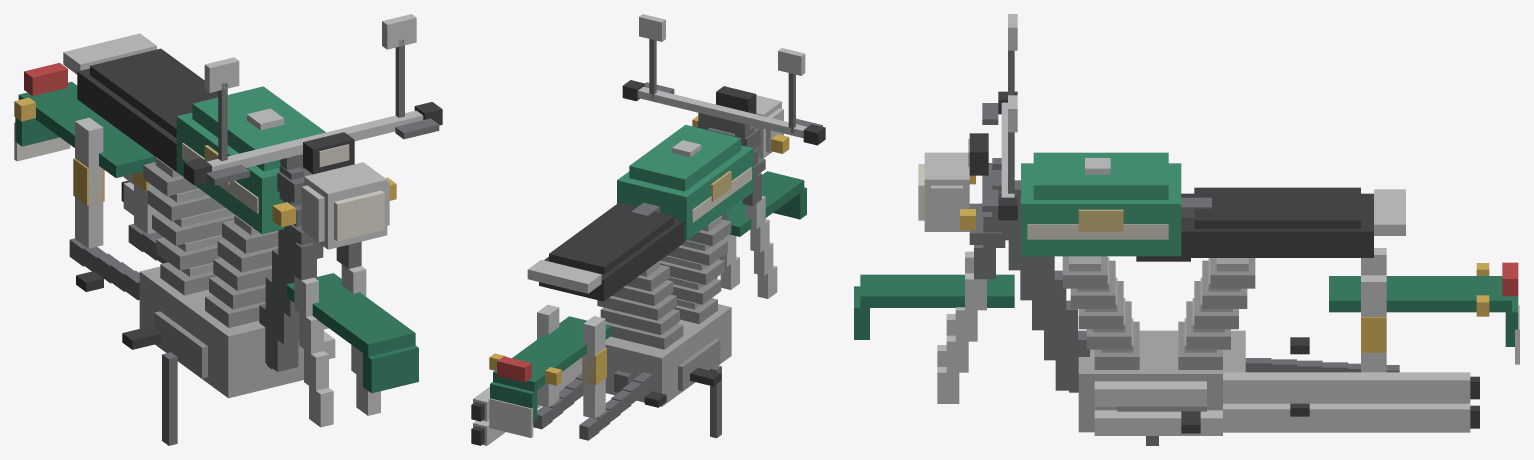
Rendered from motorcycle_body.glb.
3 views of the same model, side by side, from view 1: azimuth 30°, elevation 25°; view 2: azimuth 150°, elevation 25°; view 3: azimuth 270°, elevation 25° (orthographic). The views are drawn at different scales.
Visible parts, largest first — view 1: verda_fulmo; view 2: verda_fulmo; view 3: verda_fulmo.
Boxes of the visible parts, box(x1,y1,x2,y2) form: verda_fulmo: box(14, 14, 442, 445); verda_fulmo: box(471, 14, 825, 445); verda_fulmo: box(854, 14, 1519, 445).
Bounding box in the file's own units: 0.84 × 1.42 × 2.08.
